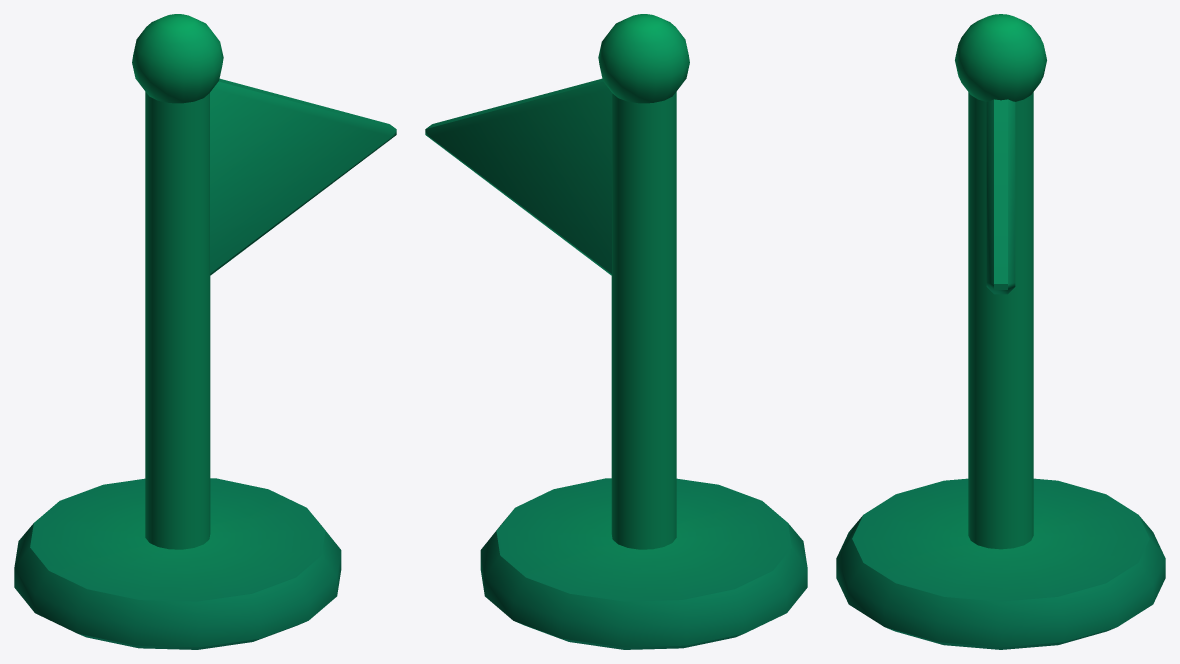
Rendered from flag-a-green.glb.
The picture shows the model from 3 angles, left to right: view 1: azimuth 30°, elevation 25°; view 2: azimuth 150°, elevation 25°; view 3: azimuth 270°, elevation 25°; orthographic projection.
Parts seen in each view (by area): view 1: flag_A_green; view 2: flag_A_green; view 3: flag_A_green.
Boxes of the visible parts, <box> form: flag_A_green: <box>14,14,396,649</box>; flag_A_green: <box>425,14,807,649</box>; flag_A_green: <box>836,14,1165,649</box>.
Size of the model in its own units: 0.9404 by 1.43 by 0.75.
Materials: 1 (1 with a texture image).
